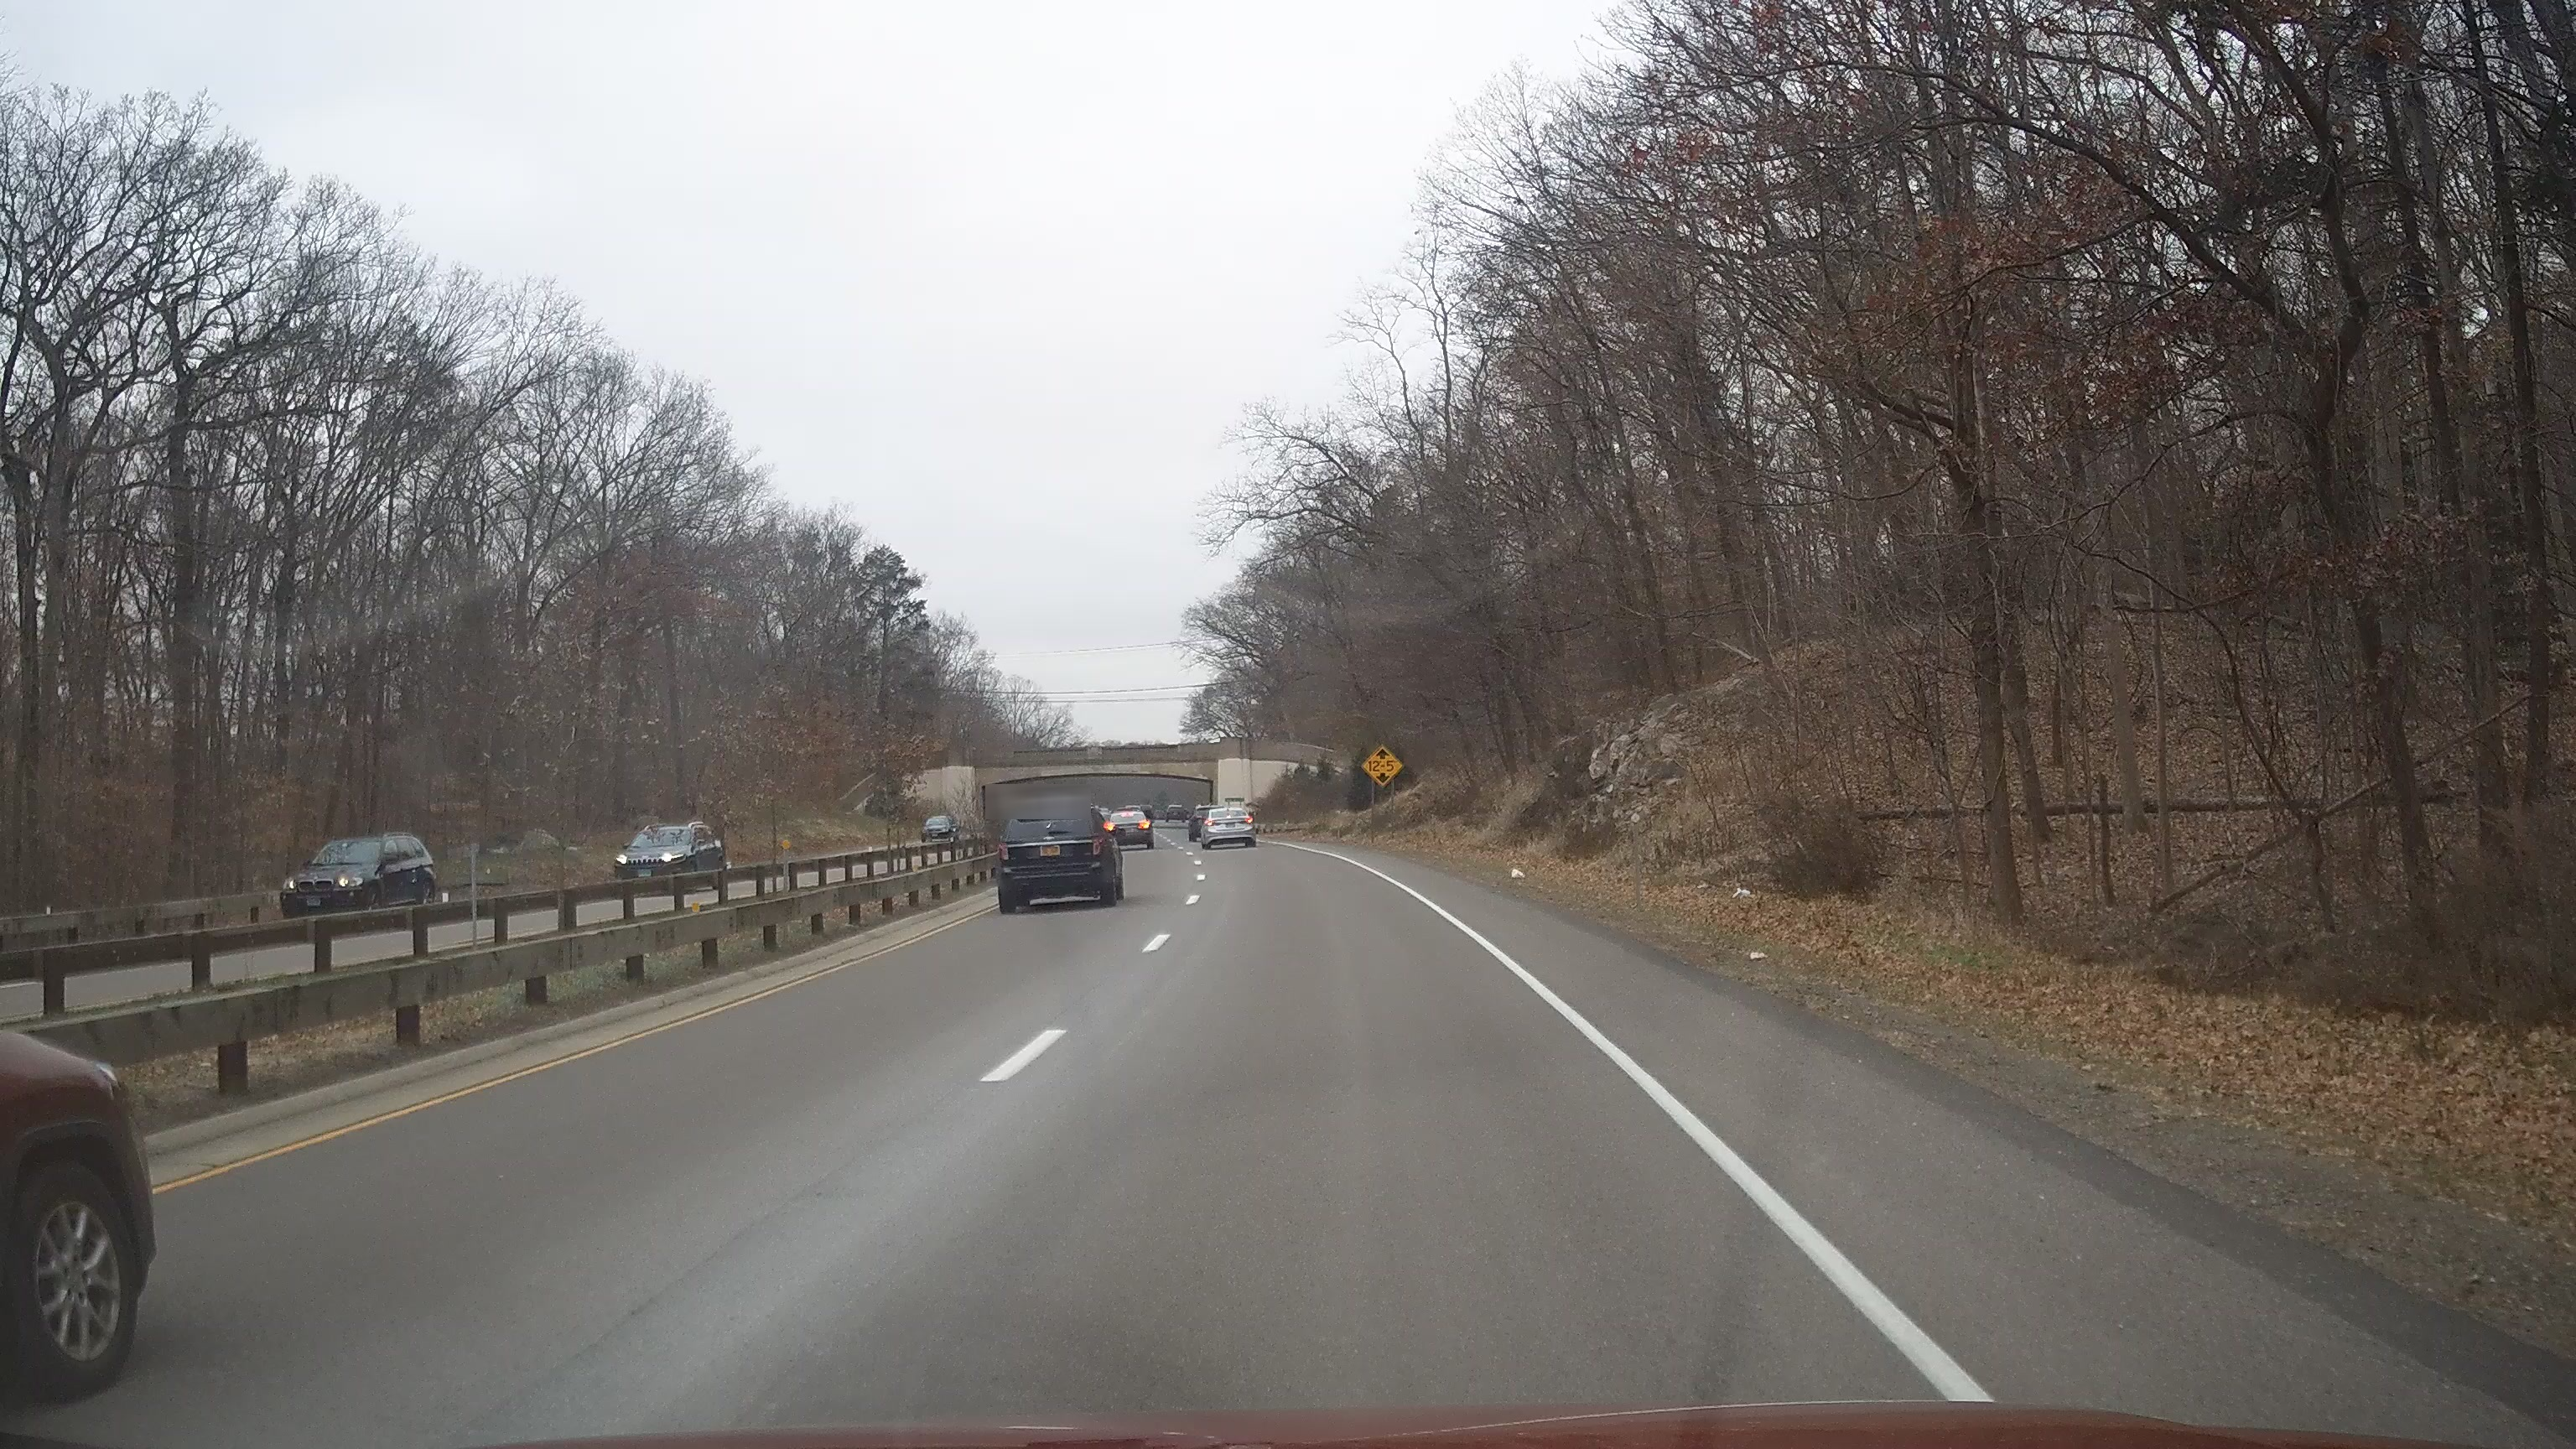low-clearance-sign: (1359, 743, 1405, 789)
